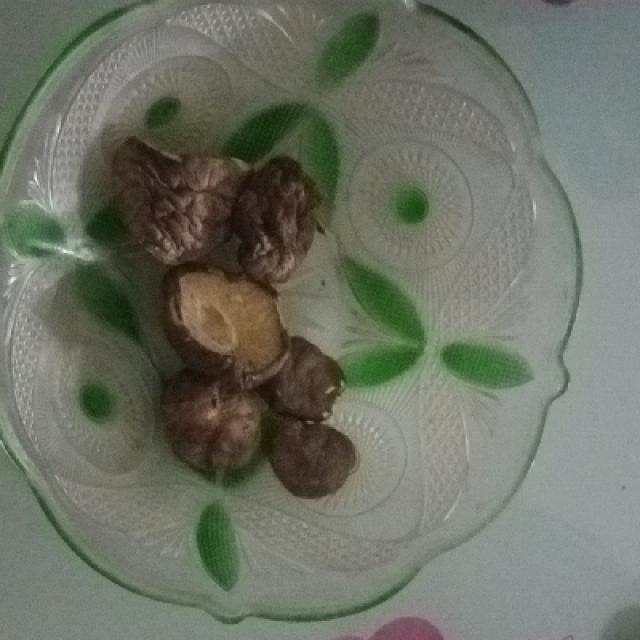Lentinus edodes: (120, 131, 249, 267), (168, 255, 287, 384), (165, 366, 265, 478), (248, 152, 323, 283), (270, 419, 358, 495), (268, 339, 348, 413)
